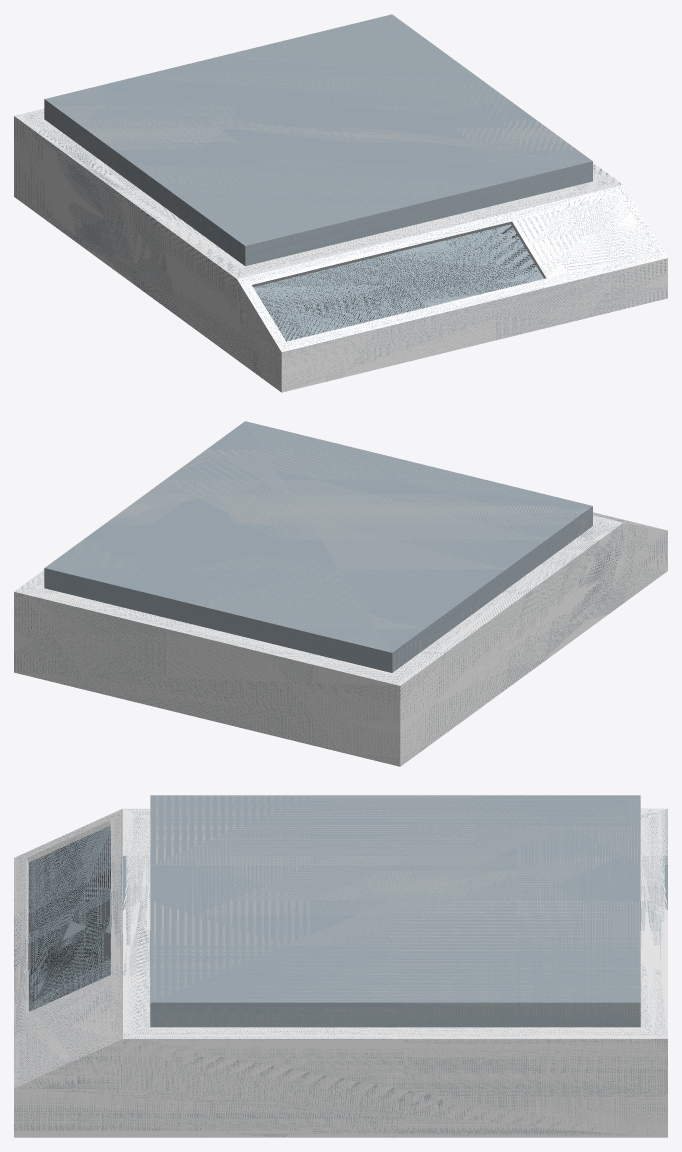
The model's file is AnalyticalBalance.obj.
3 renders of one model, top to bottom at view 1: azimuth 30°, elevation 25°; view 2: azimuth 150°, elevation 25°; view 3: azimuth 270°, elevation 25°, orthographic. The views are drawn at different scales.
Parts seen in each view (by area): view 1: Mesh1 Model; view 2: Mesh1 Model; view 3: Mesh1 Model.
Boxes of the visible parts, bbox=[...] form: Mesh1 Model: bbox=[14, 14, 667, 392]; Mesh1 Model: bbox=[14, 421, 667, 766]; Mesh1 Model: bbox=[14, 795, 667, 1137].
Size of the model in its own units: 0.2 by 0.05 by 0.24.
